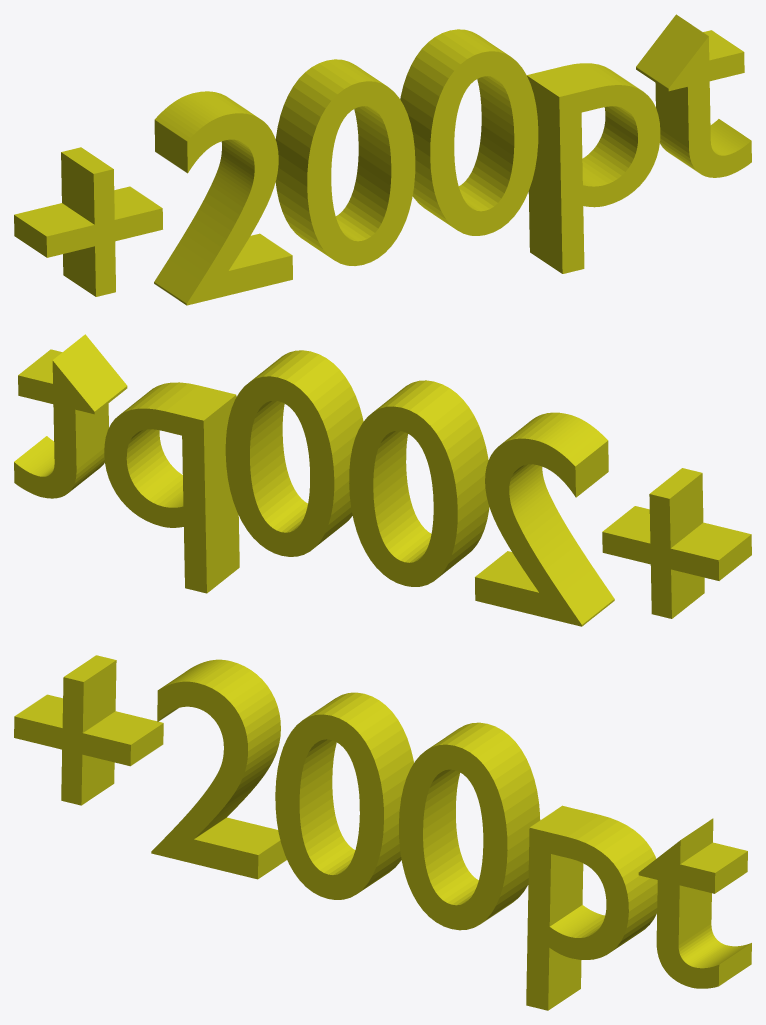
Rendered from point_ika.dae.
3 renders of one model, top to bottom at view 1: azimuth 30°, elevation 25°; view 2: azimuth 150°, elevation 25°; view 3: azimuth 330°, elevation 25°, orthographic.
Parts seen in each view (by area): view 1: ikapoint; view 2: ikapoint; view 3: ikapoint.
Boxes of the visible parts, x1,y1,x2,y2 form: ikapoint: [14, 14, 751, 305]; ikapoint: [14, 334, 751, 626]; ikapoint: [14, 655, 751, 1010].
Bounding box in the file's own units: 2.86 × 0.2618 × 0.9284.
